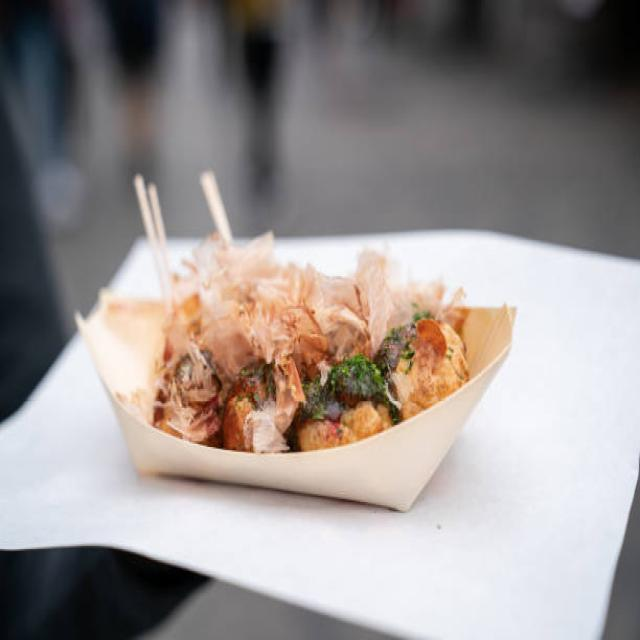Emperan: (0, 167, 638, 640)
